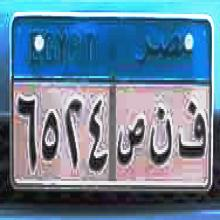2: (66, 92, 86, 168)
4: (88, 94, 108, 178)
5: (41, 104, 61, 162)
6: (18, 90, 39, 167)
faa: (178, 99, 209, 158)
noon: (149, 102, 173, 169)
saad: (118, 110, 146, 163)
